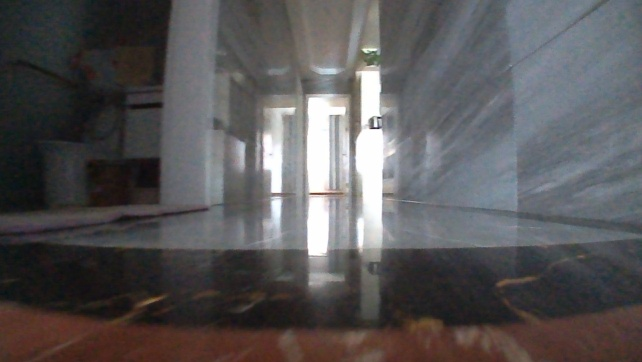blanket: (0, 202, 215, 240)
toilet: (33, 102, 122, 202)
